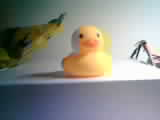duck: (54, 18, 108, 79)
